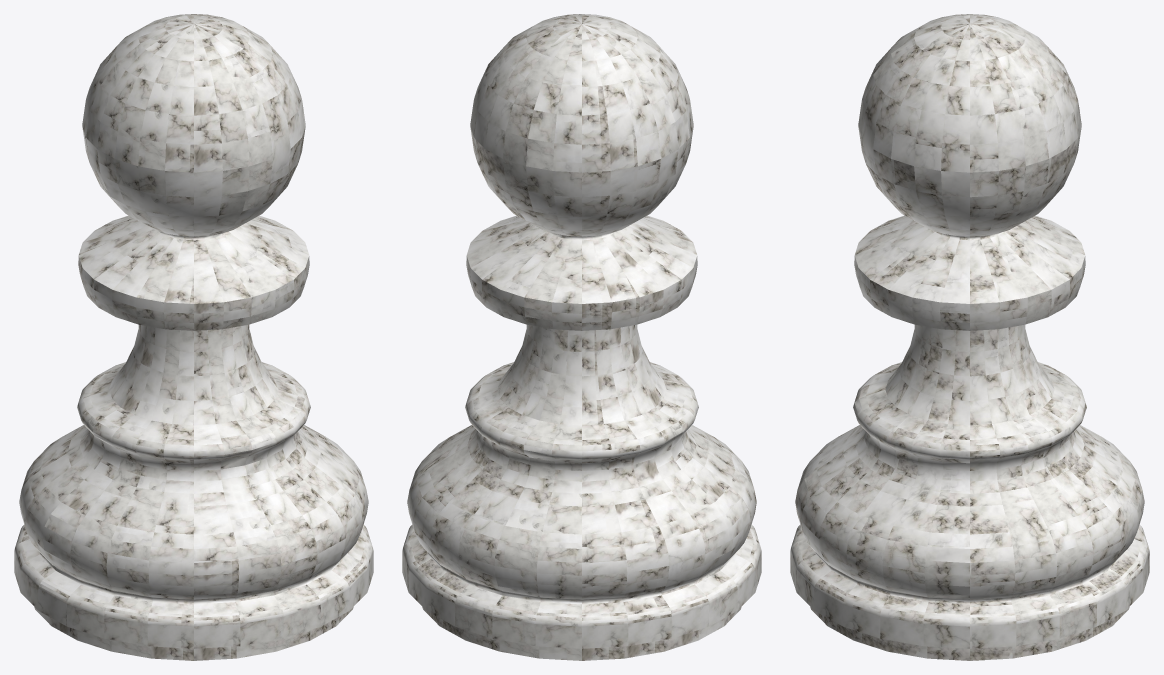
The model's file is white_pawn.fbx.
3 renders of one model, left to right at view 1: azimuth 30°, elevation 25°; view 2: azimuth 150°, elevation 25°; view 3: azimuth 270°, elevation 25°, orthographic.
Visible parts, largest first — view 1: Model; view 2: Model; view 3: Model.
Part boxes in pixels (x1,y1,x2,y2): Model: (14, 14, 373, 660); Model: (402, 14, 761, 660); Model: (790, 14, 1149, 660).
Bounding box in the file's own units: 11.31 × 19.72 × 11.31.
Materials: 1 (1 with a texture image).
